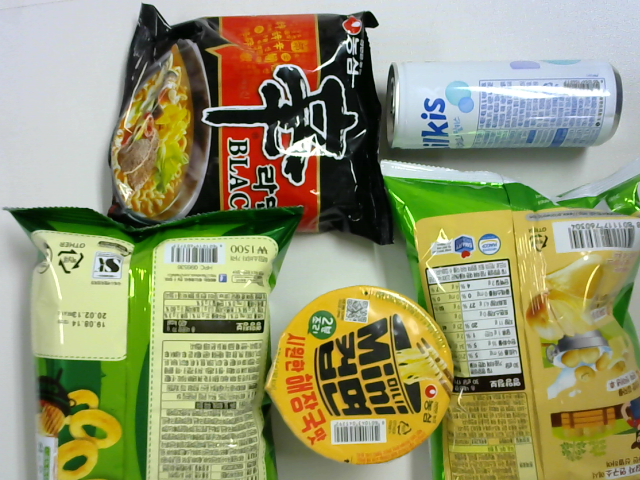Grilled_Onions: (9, 196, 279, 480)
Hejangmini: (263, 280, 457, 466)
Milkies_250ml: (389, 50, 629, 154)
Pocachip_Onion: (383, 160, 633, 480)
Sinramen_Black: (107, 10, 403, 250)
